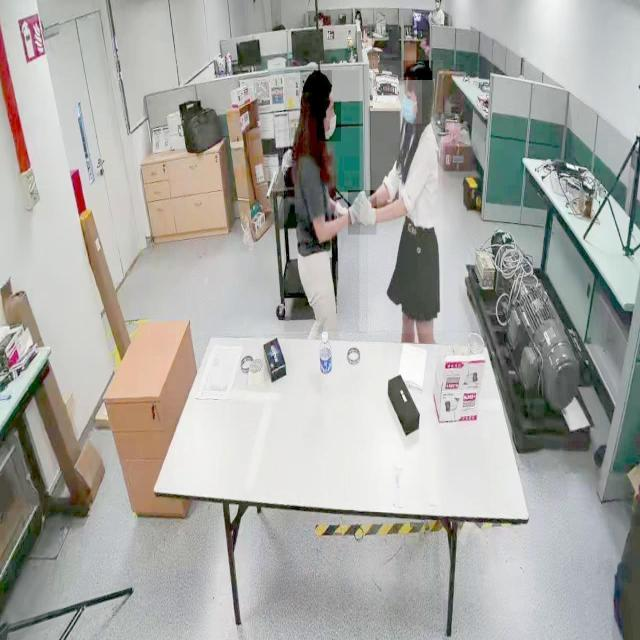face_mask: (400, 78, 422, 124), (317, 100, 341, 142)
hand_glove: (348, 190, 377, 236)
head_nohelmet: (300, 70, 332, 94), (403, 60, 433, 81), (355, 9, 361, 14)
person: (368, 61, 444, 334), (284, 70, 360, 332)
